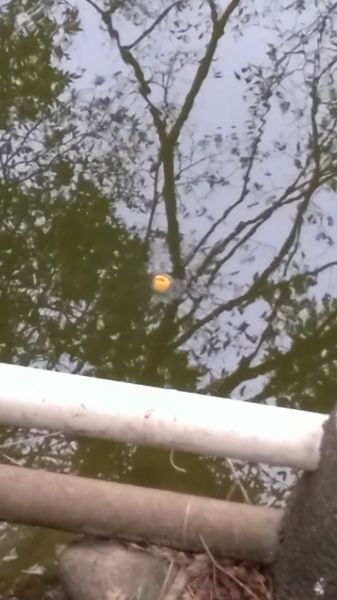eggs: (147, 271, 177, 295)
